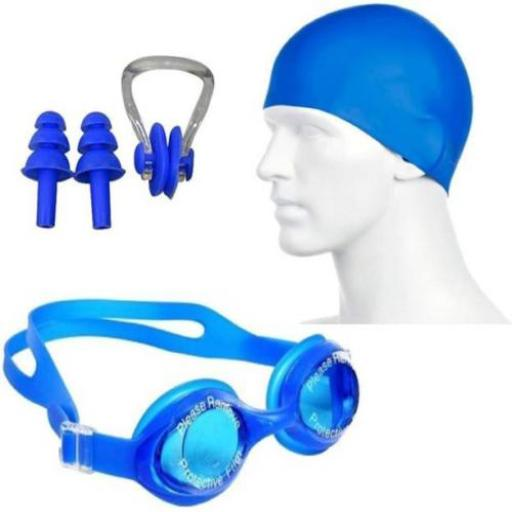swimming: (253, 0, 511, 325)
